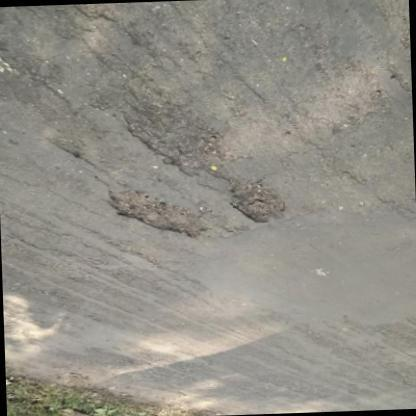pothole: (119, 98, 226, 176), (112, 184, 206, 237), (230, 180, 292, 226)
